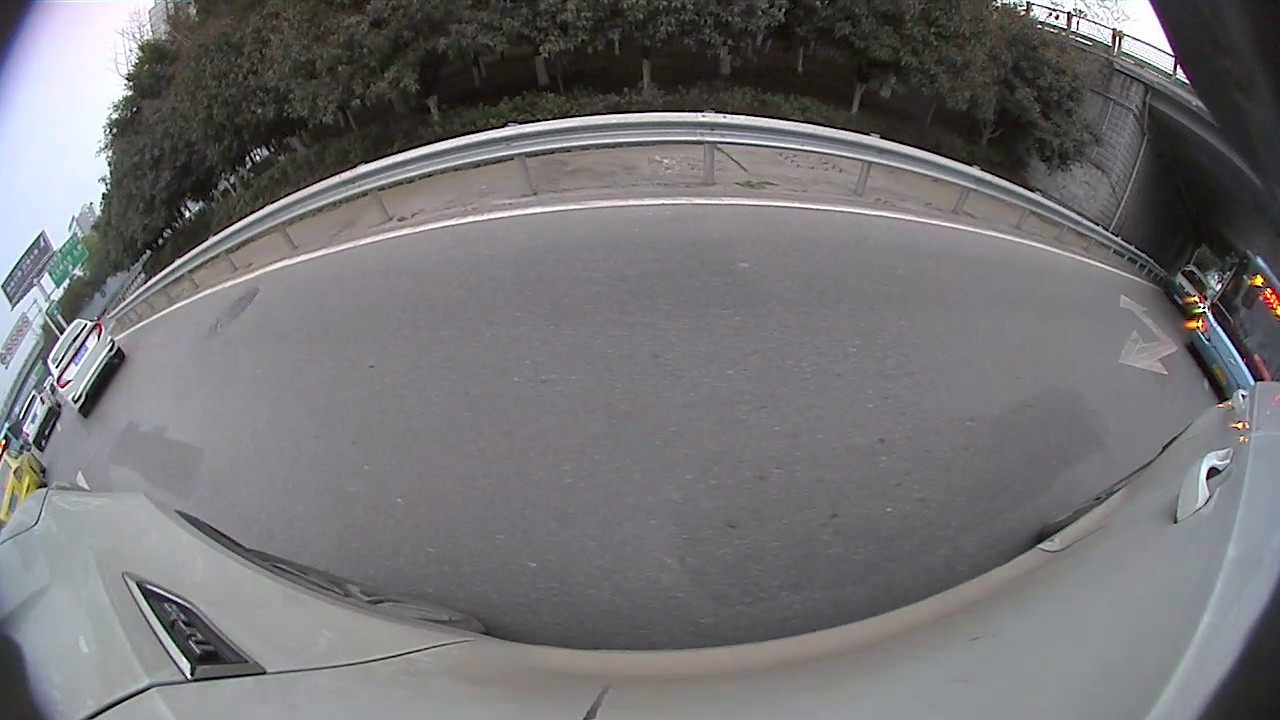bus: (1187, 246, 1279, 408)
car: (42, 316, 129, 417), (1, 440, 47, 527), (13, 386, 61, 446), (1168, 257, 1211, 316)
